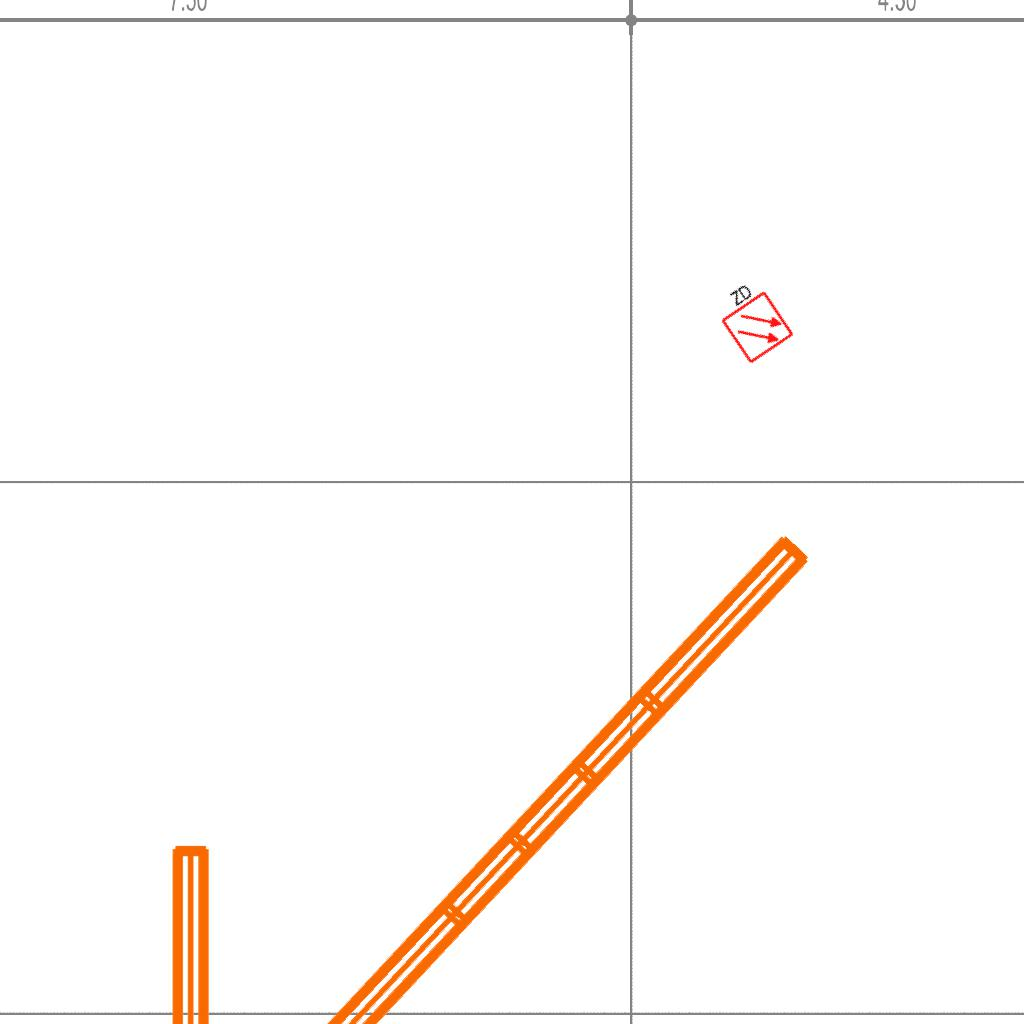Ambulanz_Pendelleuchte_LED: (254, 517, 864, 1024), (160, 835, 272, 1024)
ZD_Melder_in_Zwischendecke_mit_Revisionsoeffnung_mind_40_x_40_cm: (707, 273, 796, 367)
